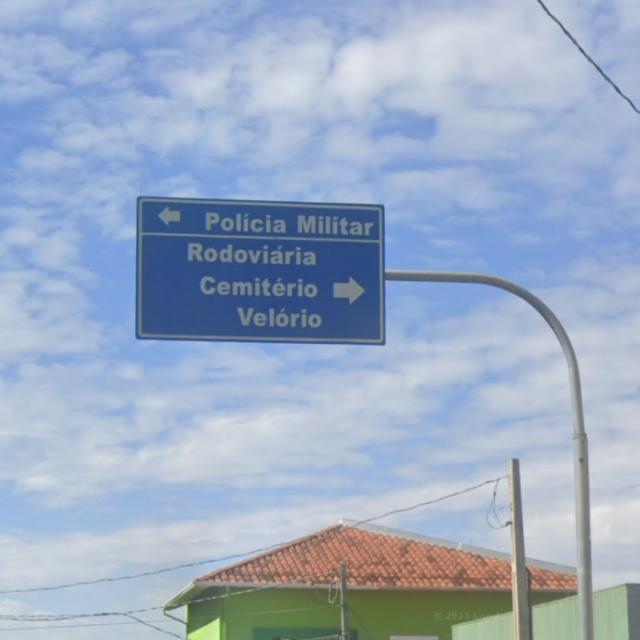indication: (121, 176, 407, 380)
